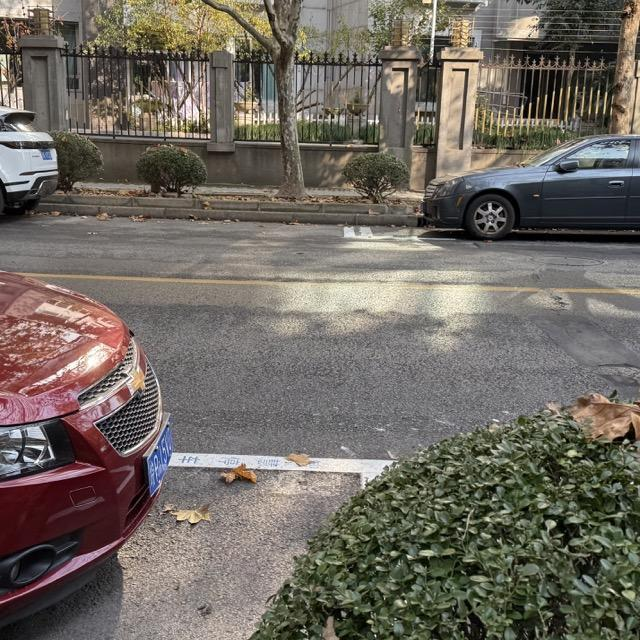curb: (41, 204, 417, 226)
